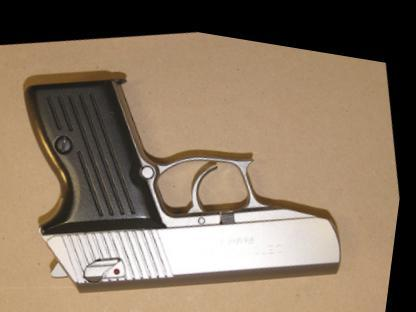pistol: (4, 16, 368, 311)
